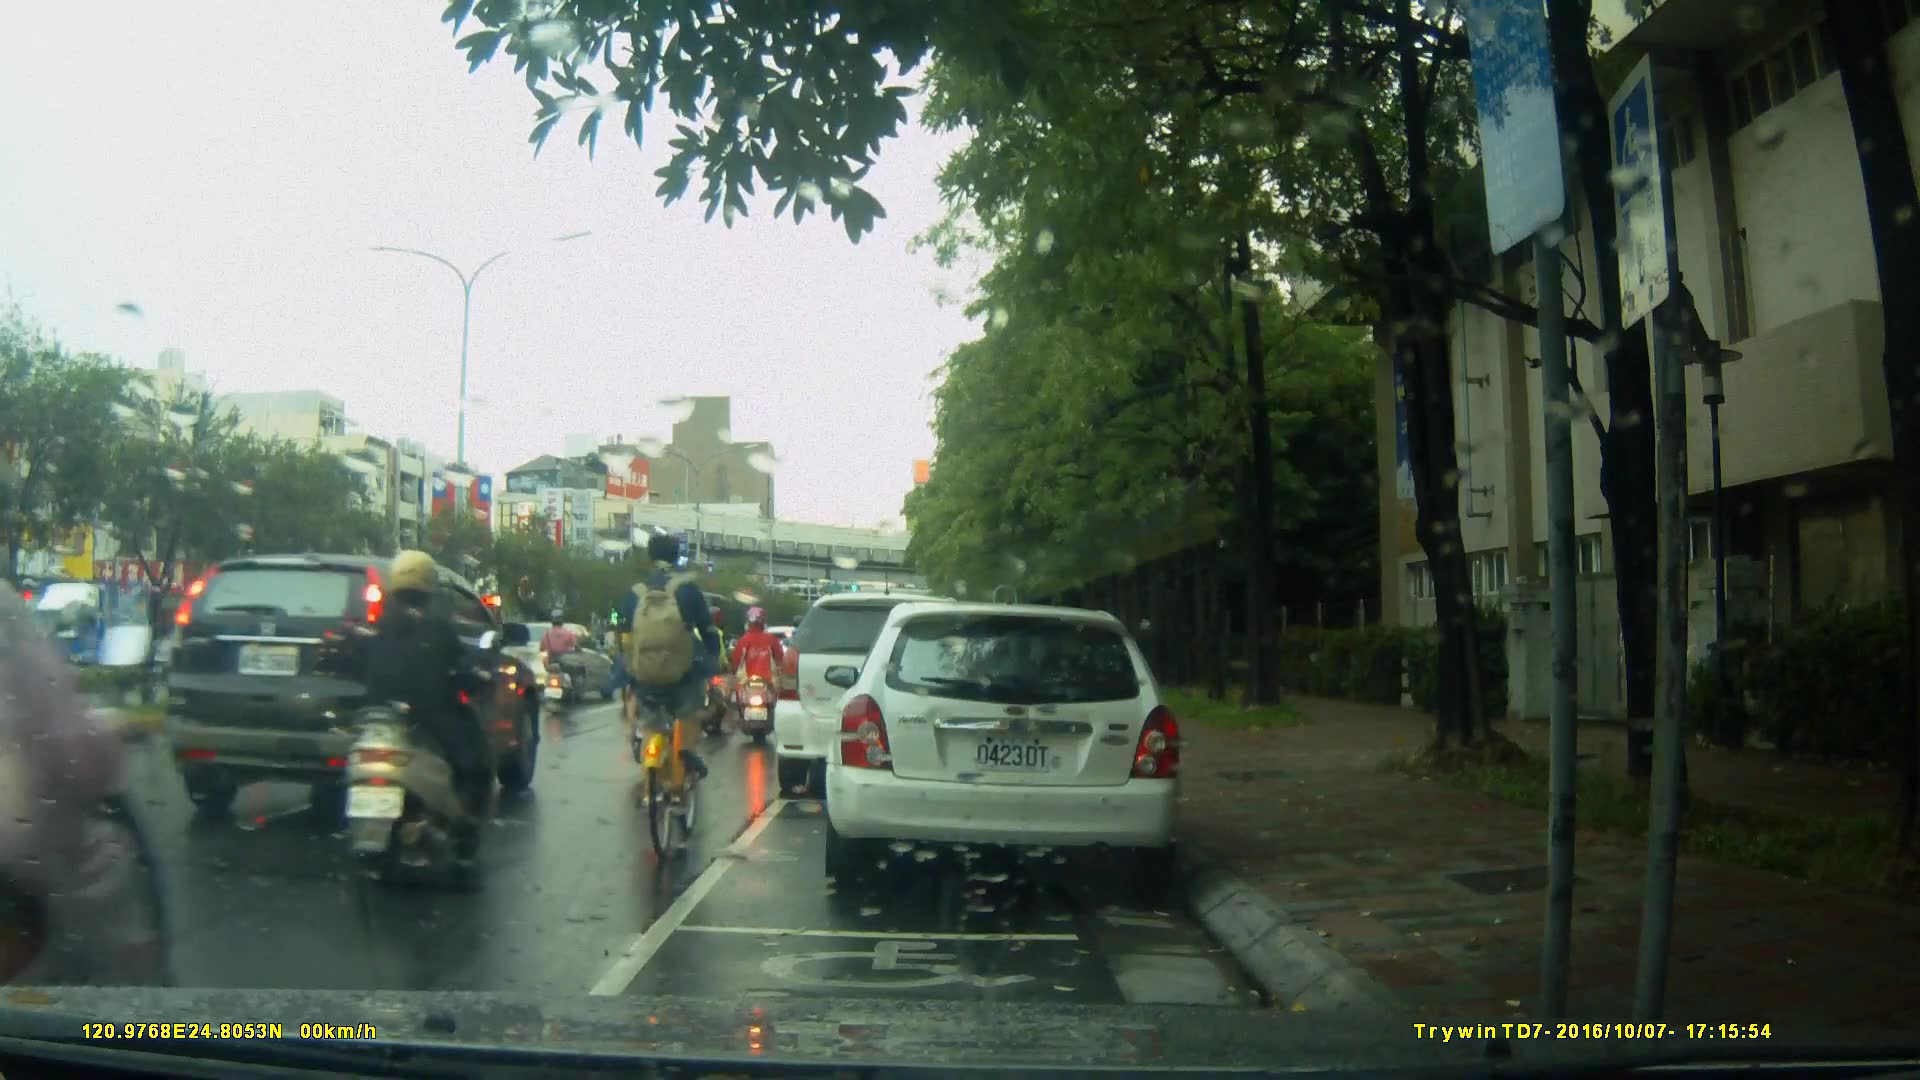rider: (344, 551, 501, 884), (630, 530, 715, 866), (725, 604, 791, 746), (540, 613, 587, 717), (781, 612, 826, 719)
vehicle: (163, 549, 547, 826), (822, 604, 1188, 883), (774, 595, 995, 802)
